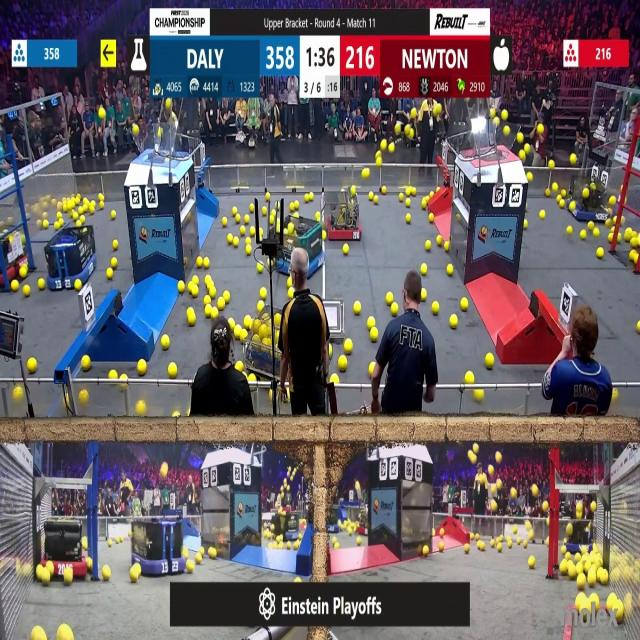ball_airborne: (574, 504, 582, 522), (162, 462, 169, 478), (565, 524, 573, 537), (408, 127, 416, 139), (394, 124, 402, 136), (471, 450, 479, 462), (99, 108, 107, 119), (132, 125, 140, 136), (166, 99, 173, 111), (490, 500, 498, 510), (536, 126, 544, 136), (570, 152, 576, 164), (550, 158, 556, 170), (362, 169, 369, 179), (381, 140, 388, 150), (496, 452, 502, 463), (532, 486, 538, 497), (518, 133, 524, 144), (512, 489, 518, 499), (541, 501, 547, 511), (502, 114, 508, 124), (412, 109, 418, 119), (388, 142, 394, 152), (527, 172, 533, 182), (502, 127, 508, 136), (490, 109, 496, 118), (491, 485, 497, 494), (489, 464, 494, 474), (496, 480, 501, 490), (591, 501, 596, 511), (524, 144, 530, 152), (377, 159, 383, 167), (155, 129, 161, 137), (521, 150, 526, 158), (377, 151, 382, 159), (172, 112, 176, 120)
ball_ground: (59, 626, 73, 639), (131, 566, 141, 582), (12, 386, 22, 401), (33, 628, 45, 640), (575, 595, 584, 611), (64, 570, 74, 584), (598, 570, 608, 584), (78, 391, 88, 405), (138, 359, 147, 374), (137, 403, 146, 418), (588, 571, 597, 586), (169, 362, 178, 376), (81, 355, 90, 369), (576, 574, 585, 588), (606, 596, 615, 610), (345, 340, 353, 355), (464, 372, 474, 384), (29, 357, 37, 372), (162, 337, 170, 351), (486, 354, 494, 368), (102, 566, 110, 580), (340, 356, 348, 370), (187, 312, 195, 326), (630, 250, 639, 262), (178, 280, 186, 293), (244, 316, 252, 329), (42, 571, 50, 584), (367, 361, 374, 375), (568, 564, 575, 578), (366, 317, 374, 329), (390, 304, 398, 316), (386, 292, 394, 304), (474, 389, 482, 401), (460, 300, 468, 312), (18, 268, 26, 280), (451, 315, 458, 328), (186, 560, 193, 573), (36, 566, 43, 579), (209, 549, 217, 560), (420, 289, 428, 300), (420, 265, 428, 276), (354, 303, 361, 315), (432, 302, 438, 316), (369, 328, 376, 340), (211, 308, 218, 320), (447, 265, 454, 277), (218, 299, 225, 311), (235, 326, 242, 338), (560, 563, 567, 575), (259, 288, 266, 299), (11, 281, 18, 292), (24, 285, 31, 296), (528, 557, 535, 568), (237, 360, 244, 371), (597, 248, 604, 259), (205, 307, 212, 318), (81, 537, 88, 548), (75, 280, 81, 292), (204, 256, 210, 268), (329, 375, 337, 384), (109, 369, 117, 378), (223, 290, 229, 302), (195, 256, 201, 268), (241, 328, 247, 340), (611, 388, 617, 400), (190, 286, 197, 296), (422, 545, 429, 555), (227, 318, 234, 328), (631, 239, 638, 249), (205, 276, 212, 286), (257, 302, 263, 313), (111, 257, 117, 268), (88, 558, 94, 569), (435, 237, 442, 246), (591, 594, 598, 603), (107, 269, 113, 279), (38, 280, 44, 290), (210, 288, 216, 298), (425, 241, 431, 251), (288, 288, 294, 298), (194, 554, 200, 564), (445, 242, 451, 252), (205, 294, 211, 304), (422, 200, 428, 210), (625, 233, 631, 243), (569, 202, 575, 212), (71, 210, 77, 220), (275, 314, 281, 324), (119, 374, 126, 382), (249, 375, 256, 383), (269, 216, 276, 224), (344, 244, 349, 255), (566, 225, 572, 234), (234, 238, 240, 247), (286, 279, 292, 288), (246, 246, 252, 255), (110, 211, 116, 220), (250, 226, 256, 235), (221, 217, 227, 226), (407, 215, 413, 224), (611, 216, 617, 225), (244, 215, 250, 224), (42, 219, 48, 228), (191, 276, 197, 285), (618, 235, 624, 244), (480, 541, 486, 550), (227, 235, 232, 245), (579, 232, 585, 240), (428, 214, 434, 222), (594, 230, 600, 238), (636, 321, 640, 333), (553, 183, 559, 191), (403, 200, 409, 208), (348, 528, 354, 536), (79, 215, 85, 223), (412, 187, 418, 195), (286, 540, 292, 548), (517, 536, 523, 544), (112, 241, 117, 250), (524, 219, 529, 228), (464, 543, 469, 552), (306, 192, 311, 201), (398, 192, 403, 201), (372, 197, 377, 206), (294, 202, 299, 211), (596, 600, 600, 611), (246, 238, 252, 245), (263, 208, 269, 215), (276, 225, 282, 232), (382, 186, 388, 193), (257, 266, 262, 274), (241, 226, 246, 234), (237, 215, 242, 223), (589, 222, 594, 230), (440, 542, 445, 550), (99, 192, 104, 200), (544, 188, 549, 196), (328, 345, 332, 355), (560, 201, 565, 209), (356, 536, 361, 544), (368, 192, 373, 200), (78, 207, 83, 215), (561, 544, 566, 552), (524, 540, 529, 548), (491, 539, 496, 547), (83, 200, 88, 208), (540, 210, 544, 219), (608, 235, 612, 244), (294, 576, 300, 582), (322, 232, 326, 241), (290, 203, 294, 212), (91, 207, 96, 214), (108, 539, 113, 546), (497, 543, 502, 550), (272, 210, 277, 217), (557, 194, 562, 201), (267, 192, 271, 200), (250, 205, 254, 213), (258, 230, 262, 238), (562, 188, 566, 196), (441, 529, 445, 537), (514, 526, 518, 534), (336, 542, 341, 548), (101, 202, 105, 209), (233, 208, 237, 215), (472, 536, 476, 543), (507, 540, 511, 547), (60, 219, 64, 226), (58, 212, 62, 219), (201, 546, 205, 552), (116, 536, 120, 542), (276, 217, 278, 224)
goal: (465, 120, 520, 160), (127, 128, 188, 160)
robot_blue: (266, 216, 325, 278), (129, 516, 187, 576), (45, 225, 97, 290), (573, 180, 614, 223), (340, 481, 366, 509), (280, 515, 300, 540)
robot_red: (42, 518, 86, 577), (245, 319, 278, 378), (0, 218, 27, 281), (328, 191, 362, 241)
